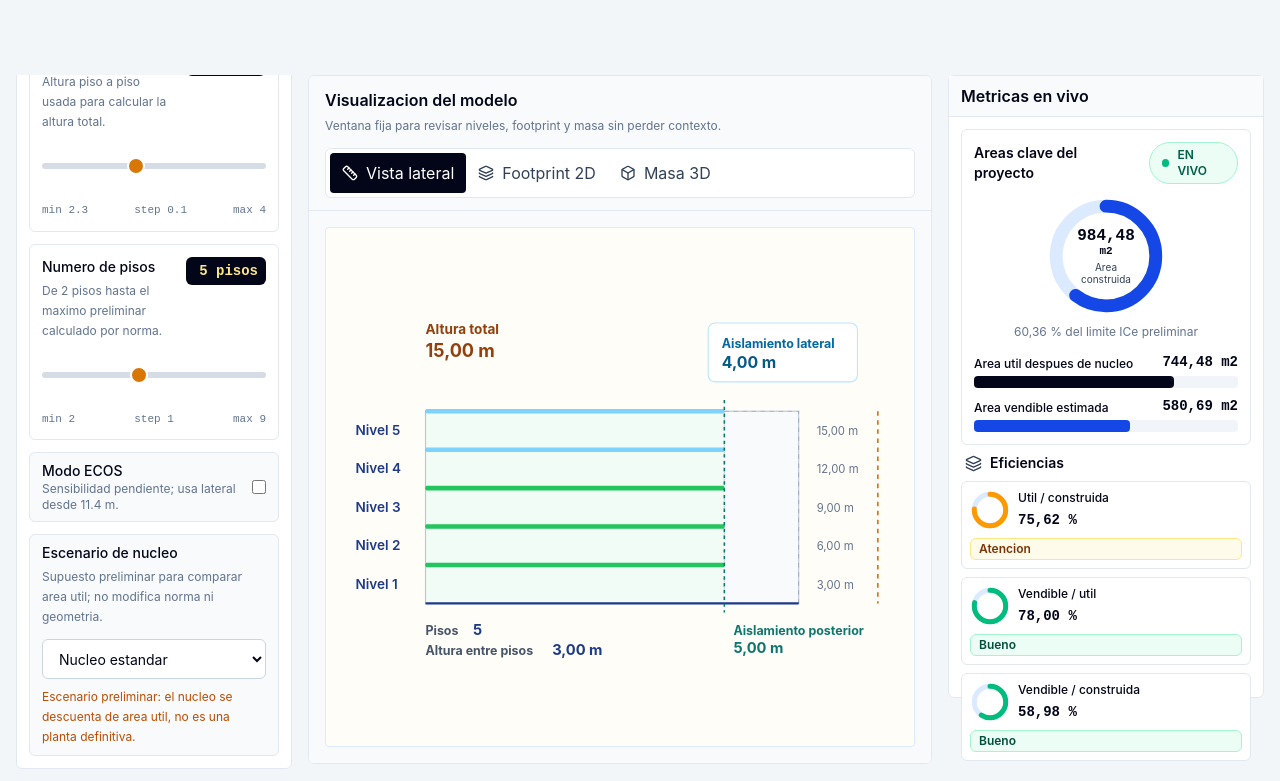
Scenario: App live calculations UI › uses a selectable core scenario instead of a core slider
(page scrolled)
Check: the text "Escenario preliminar" is shown, box [42,689,232,744]
Select "Nucleo completo" in the dropdown labelled "Escenario de nucleo" at (154, 659), box [42,639,266,679]
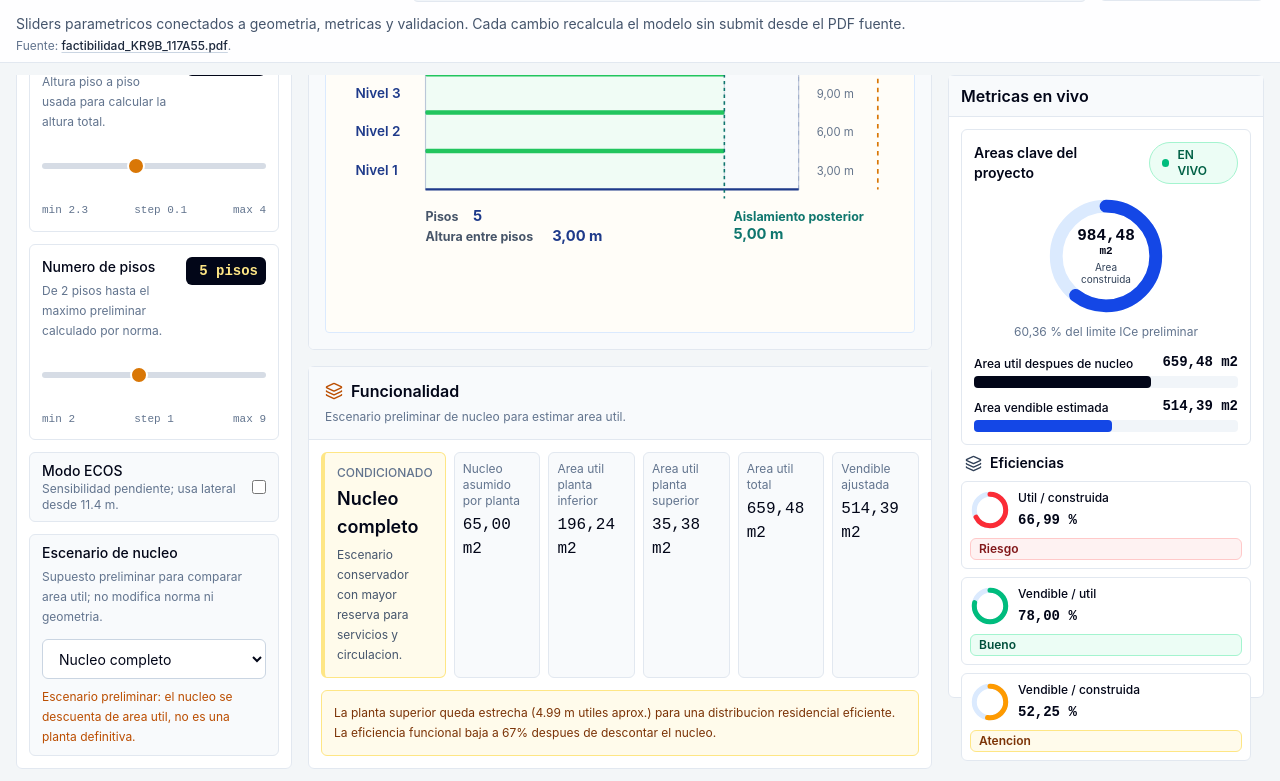
Check: the text "65,00 m2" is shown, box [463,516,511,558]
